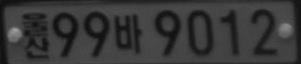0: (186, 9, 215, 57)
1: (218, 8, 244, 56)
2: (250, 8, 277, 56)
9: (50, 11, 80, 59), (81, 10, 111, 58), (154, 8, 182, 57)
바: (112, 13, 144, 54)
울산_V: (20, 11, 50, 60)
